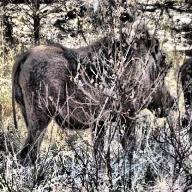boar: (0, 10, 181, 157)
